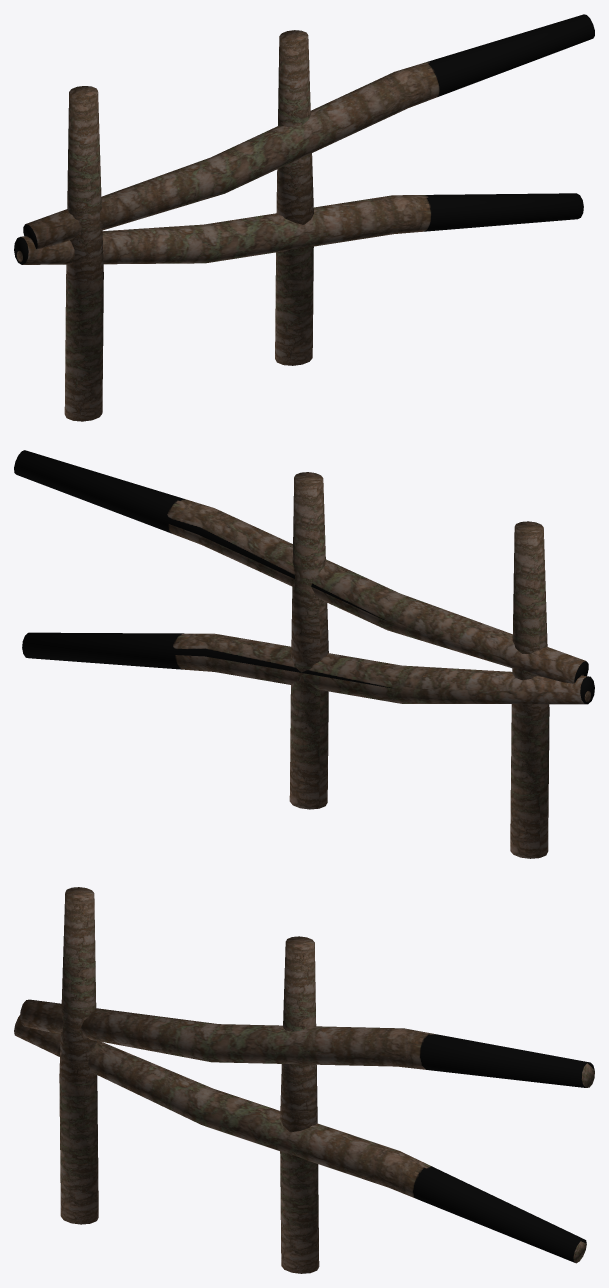
File: fence 3.fbx
3 renders of one model, top to bottom at view 1: azimuth 30°, elevation 25°; view 2: azimuth 150°, elevation 25°; view 3: azimuth 330°, elevation 25°, orthographic.
Visible parts, largest first — view 1: fence 3; view 2: fence 3; view 3: fence 3.
Boxes of the visible parts, left/top/right/bottom form: fence 3: left=14, top=14, right=594, bottom=421; fence 3: left=14, top=450, right=594, bottom=858; fence 3: left=14, top=887, right=594, bottom=1273.
Bounding box in the file's own units: 2.53 × 1.37 × 0.1766.
